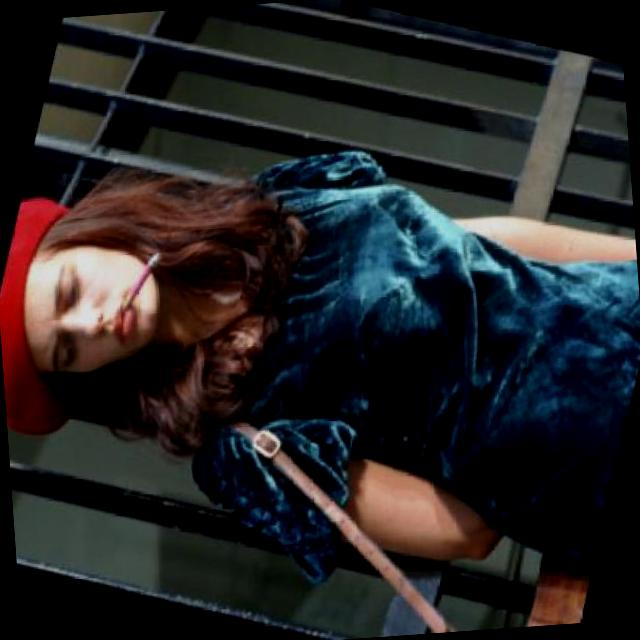cigarette: (110, 238, 169, 327)
